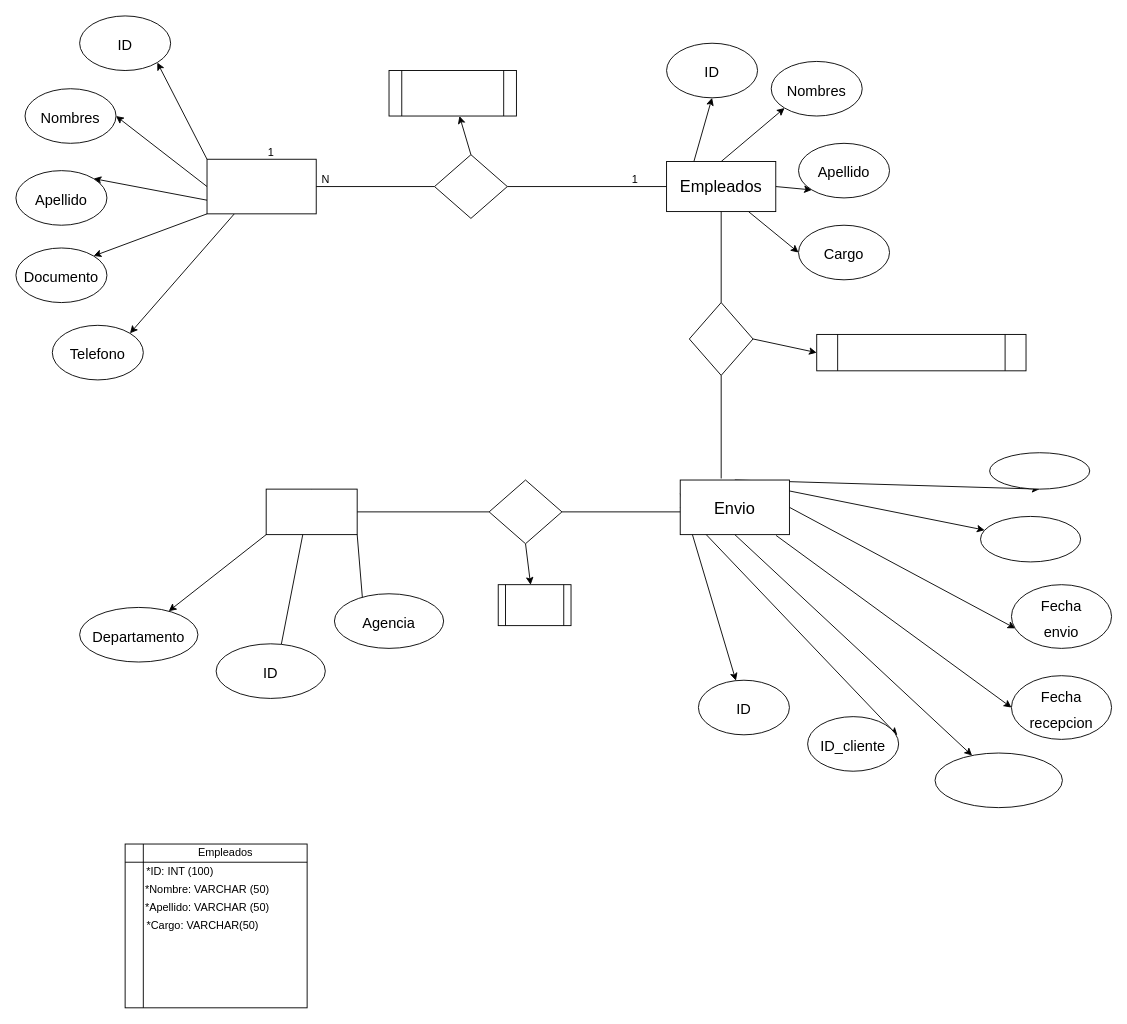
Some shapes in this 1127 by 1024 pixel diagram are drawn without their labels. The box of each missing label's shape, as (x1, y1, x2, y2) in pixels:
Ciudad: (265, 488, 357, 535)
clientes: (206, 158, 316, 214)
envio ciudad: (497, 584, 571, 626)
Estado: (989, 452, 1090, 489)
estado_paquete: (816, 334, 1026, 371)
ID_Ciudad: (980, 516, 1081, 562)
nombre_destinatario: (934, 752, 1062, 808)
usuario: (388, 70, 516, 116)
